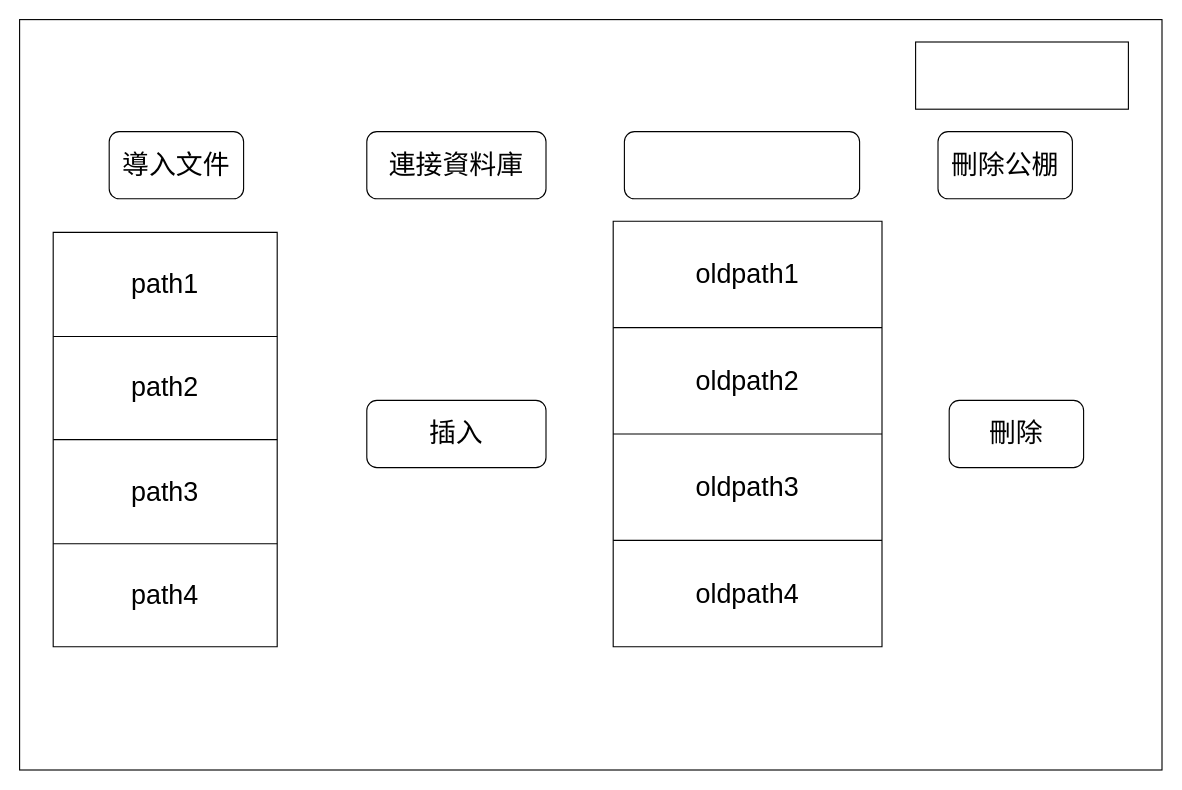
The diagram is 1182 pixels wide and 790 high, and some of its shapes have lost their labels. The shapes that lost their labels are listed below. From the top down, each one's centre as x and y in pixels, then its label:
the point at 1021,75: 輸入名字
the point at 741,164: 公棚
